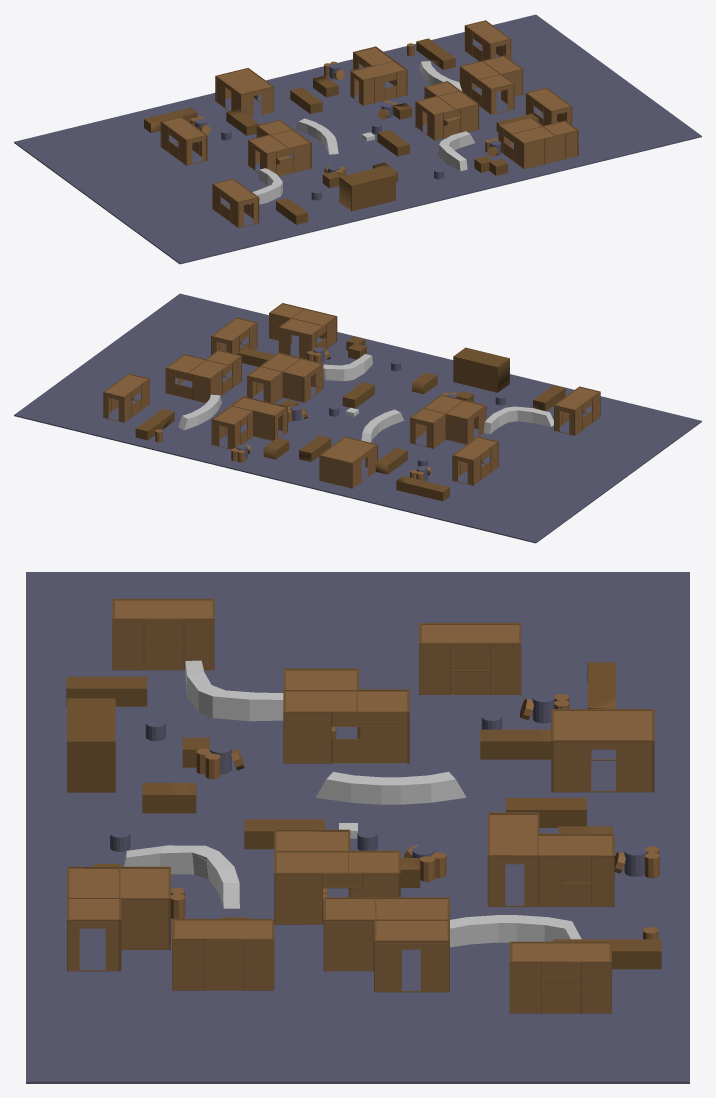
Rendered from map_collider.obj.
The picture shows the model from 3 angles, top to bottom: view 1: azimuth 30°, elevation 25°; view 2: azimuth 150°, elevation 25°; view 3: azimuth 270°, elevation 25°; orthographic projection. The views are drawn at different scales.
Visible parts, largest first — view 1: Cube.005, Plane_034.034, Plane_034.017, Plane_034.053, Plane_034.040, Plane_034.027, Plane_034.024, Plane_034.012, Plane_034.002, Plane_034.003, Plane_034.029, Plane_034.035 (+12 smaller); view 2: Cube.005, Plane_034.053, Plane_034.040, Plane_034.017, Plane_034.027, Plane_034.034, Plane_034.024, Plane_034.012, Plane_034.002, Plane_034.029, Plane_034.003, Plane_034.035 (+13 smaller); view 3: Cube.005, Plane_034.053, Plane_034.040, Plane_034.027, Plane_034.034, Plane_034.017, Plane_034.024, Plane_034.029, Plane_034.035, Plane_034.002, Plane_034.003, Plane_034.012 (+11 smaller).
Boxes of the visible parts, x1,y1,x2,y2 form: Cube.005: (14, 14, 701, 264); Plane_034.034: (498, 117, 578, 169); Plane_034.017: (415, 81, 479, 140); Plane_034.053: (248, 120, 311, 176); Plane_034.040: (459, 55, 523, 114); Plane_034.027: (350, 46, 407, 105); Plane_034.024: (215, 68, 273, 117); Plane_034.012: (339, 166, 395, 211); Plane_034.002: (160, 116, 207, 165); Plane_034.003: (212, 178, 259, 227); Plane_034.029: (464, 20, 511, 61); Plane_034.035: (525, 87, 572, 125); Cube.005: (14, 293, 701, 543); Plane_034.053: (410, 394, 486, 448); Plane_034.040: (165, 350, 241, 402); Plane_034.017: (247, 352, 323, 403); Plane_034.027: (211, 396, 287, 449); Plane_034.034: (269, 303, 337, 359); Plane_034.024: (319, 436, 377, 488); Plane_034.012: (453, 347, 509, 392); Plane_034.002: (452, 436, 498, 485); Plane_034.029: (103, 373, 149, 422); Plane_034.003: (554, 386, 600, 435); Plane_034.035: (211, 317, 257, 354); Cube.005: (26, 572, 689, 1083); Plane_034.053: (283, 668, 409, 763); Plane_034.040: (323, 897, 449, 992); Plane_034.027: (487, 812, 614, 906); Plane_034.034: (67, 866, 170, 971); Plane_034.017: (274, 829, 400, 924); Plane_034.024: (551, 709, 654, 792); Plane_034.029: (509, 941, 611, 1013); Plane_034.035: (172, 918, 274, 990); Plane_034.002: (419, 623, 521, 694); Plane_034.003: (112, 598, 214, 670); Plane_034.012: (67, 698, 115, 792).
Size of the model in its own units: 127 by 7.12 by 69.75.
